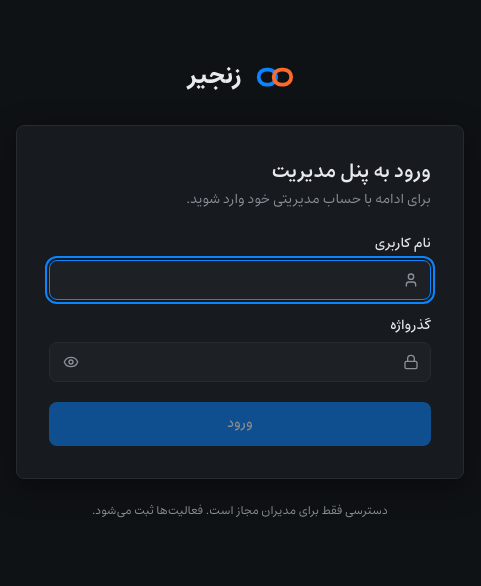
Test case: Login › locks the form with a Persian countdown on rate_limited
Type "tester" into the field labelled "نام کاربری" at [240, 280], box top-left (49, 260), bottom-right (431, 300)
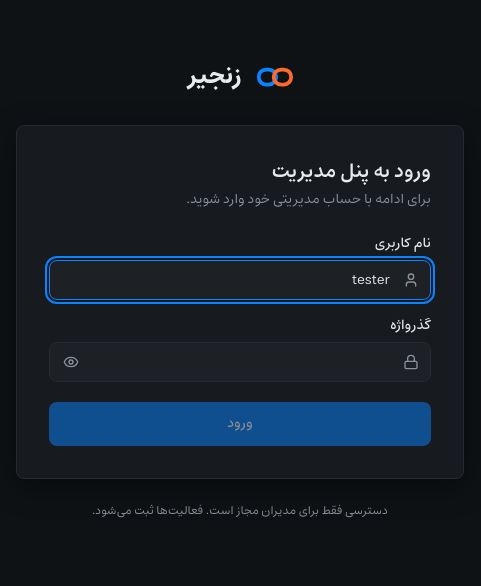
Type "x" into the password field labelled "گذرواژه" at [240, 362], box top-left (49, 342), bottom-right (431, 382)
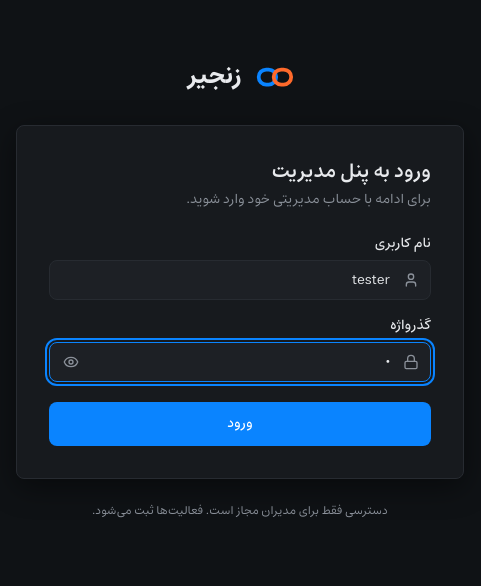
Click the button "ورود" at [240, 424], box top-left (49, 402), bottom-right (431, 446)
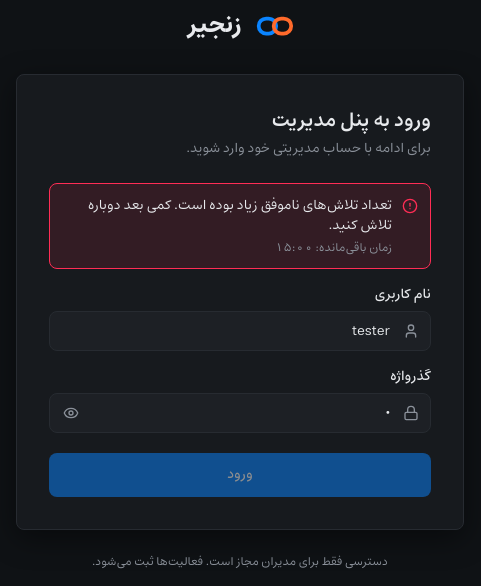
Check: the message shows "تعداد تلاش‌های ناموفق زیاد بوده است. کمی بعد دوباره تلاش کنید.", box top-left (88, 195), bottom-right (392, 236)
Check: the message shows "۱۵:۰۰", box top-left (274, 239), bottom-right (313, 257)
Check: the button "ورود" is disabled, box top-left (49, 453), bottom-right (431, 497)
